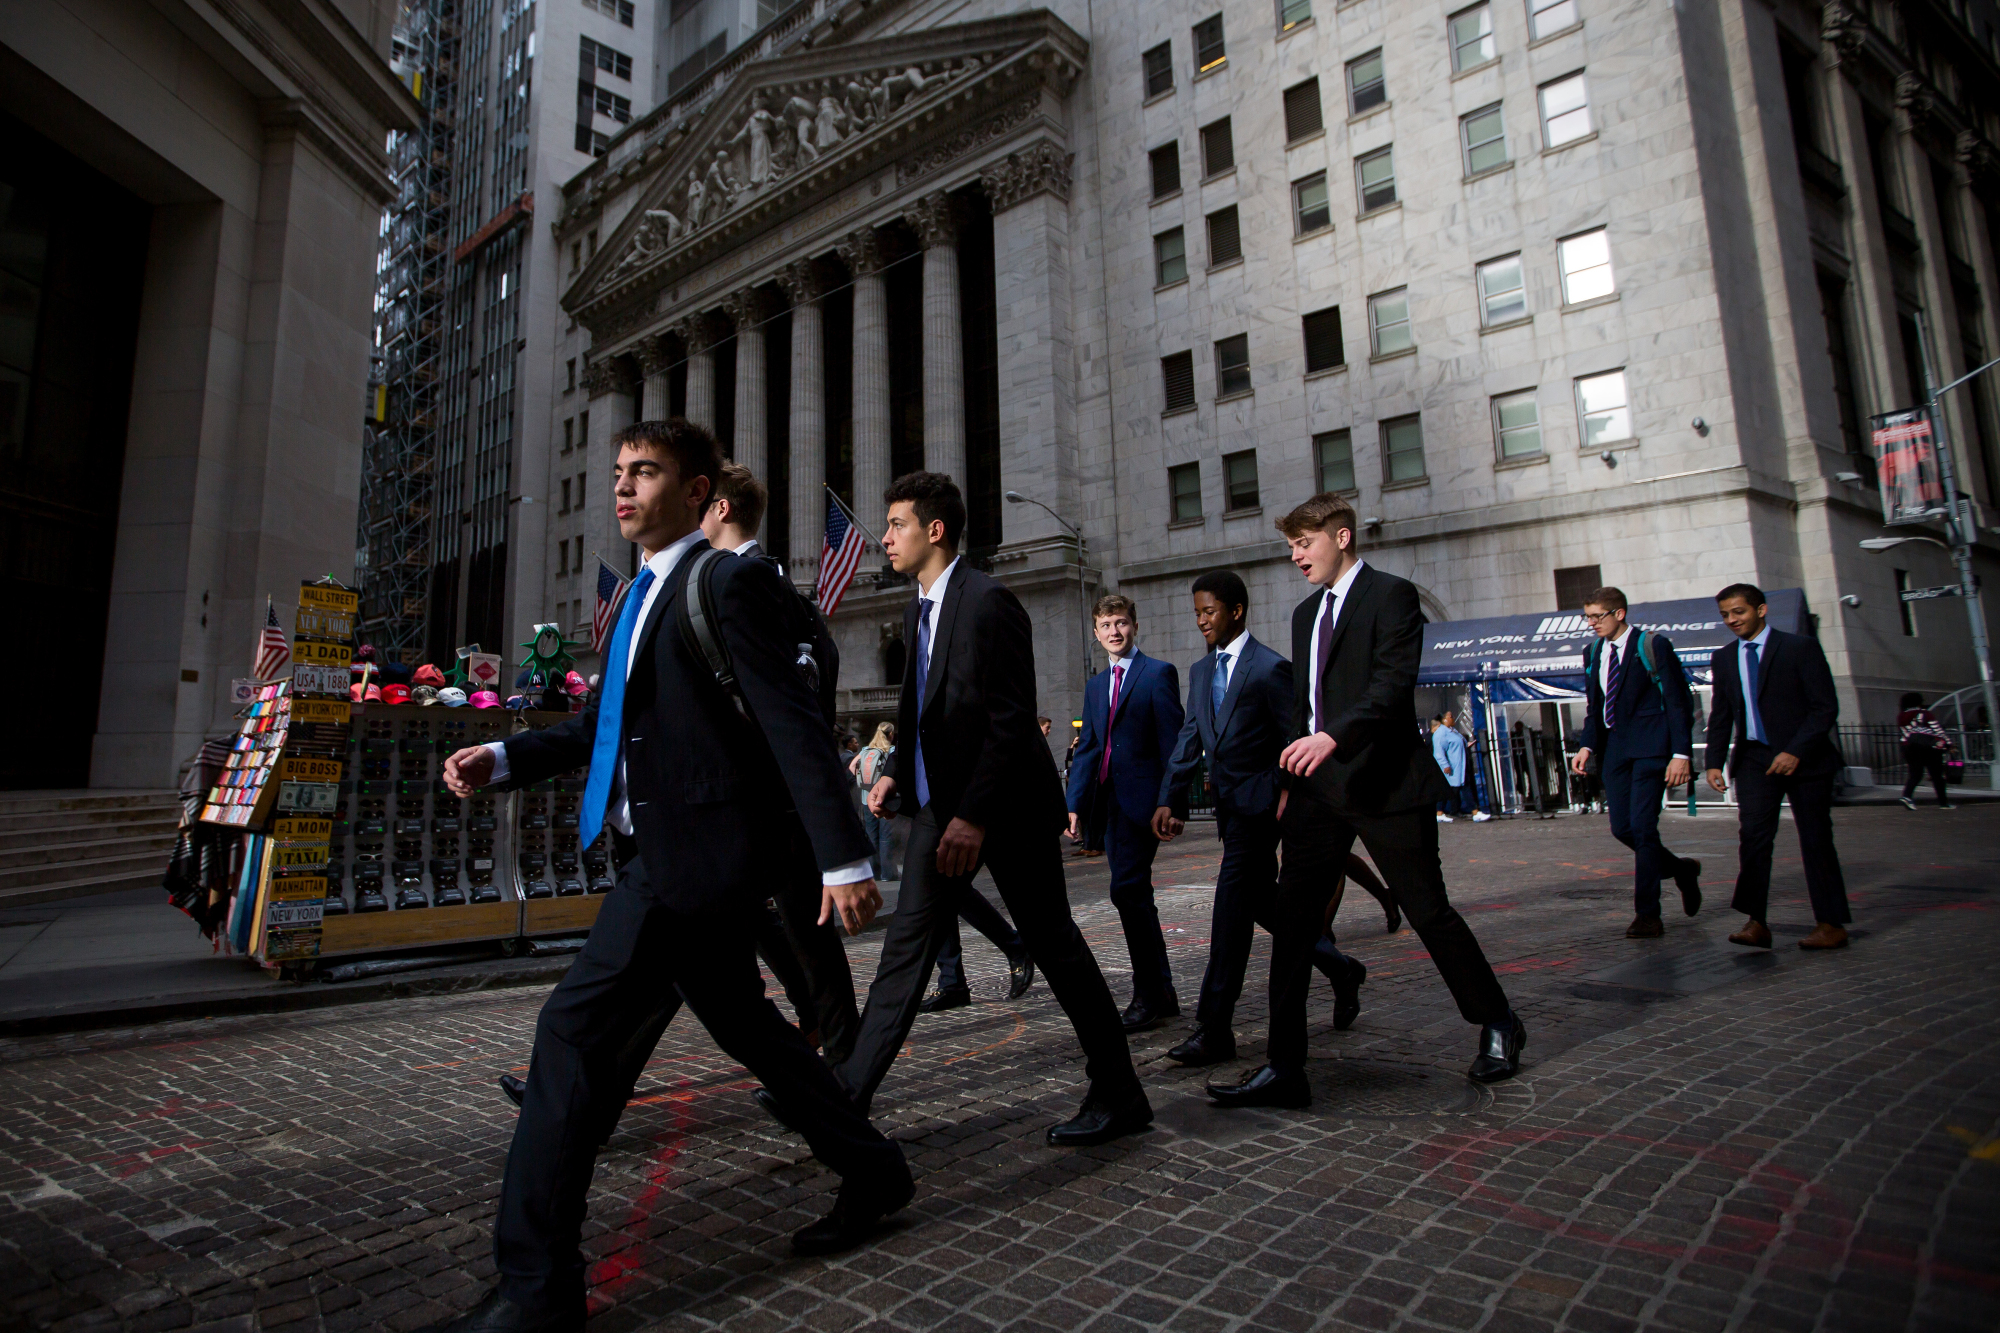face: (601, 412, 721, 540), (863, 464, 972, 571), (1270, 496, 1355, 585), (1566, 579, 1633, 641), (1086, 587, 1140, 657), (1700, 581, 1770, 636), (1185, 581, 1241, 641)
